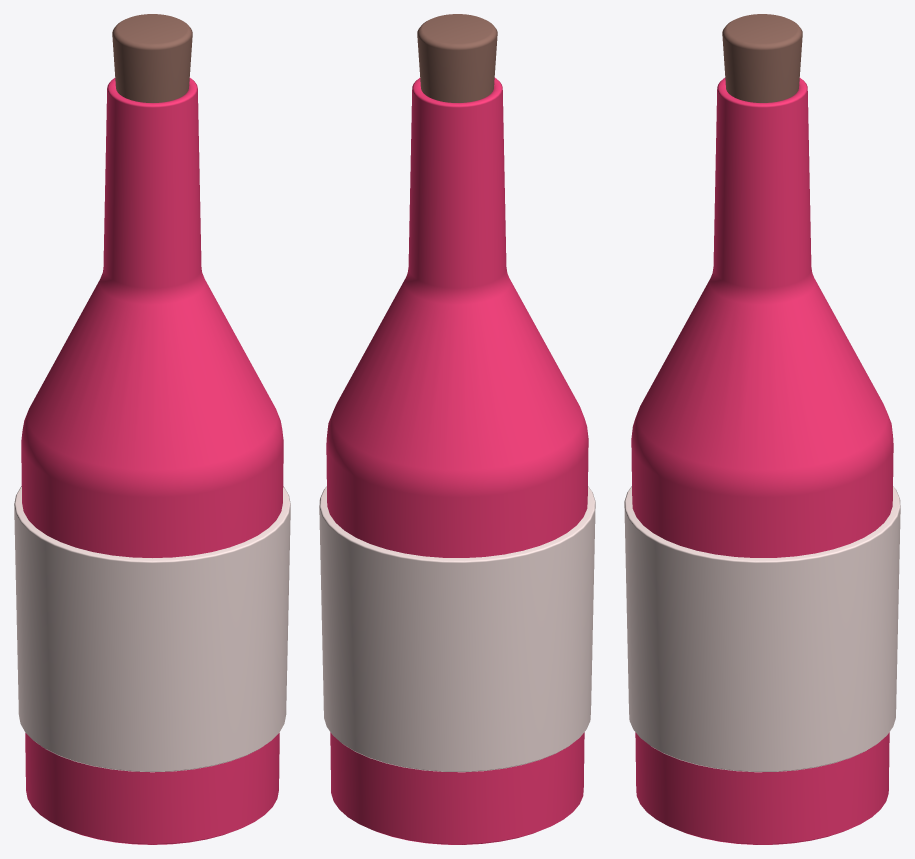
File: Store_20_Big_Bottle_of_Wine_1.glb
3 views of the same model, side by side, from view 1: azimuth 30°, elevation 25°; view 2: azimuth 150°, elevation 25°; view 3: azimuth 270°, elevation 25° (orthographic).
Visible parts, largest first — view 1: Store_20_Big_Bottle_of_Wine_1; view 2: Store_20_Big_Bottle_of_Wine_1; view 3: Store_20_Big_Bottle_of_Wine_1.
Part boxes in pixels (<box>): Store_20_Big_Bottle_of_Wine_1: <box>14,14,290,844</box>; Store_20_Big_Bottle_of_Wine_1: <box>319,14,595,844</box>; Store_20_Big_Bottle_of_Wine_1: <box>624,14,900,844</box>.
Bounding box in the file's own units: 1.52 × 4.66 × 1.52.
Materials: 1 (1 with a texture image).
